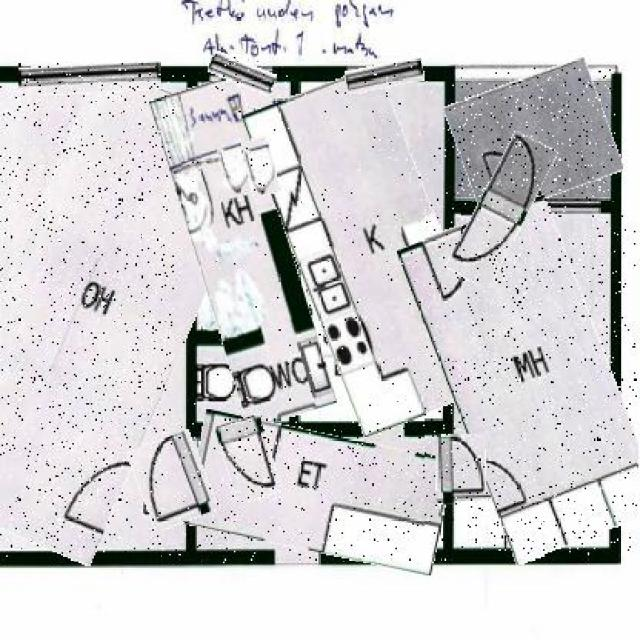door: (460, 132, 542, 288), (132, 434, 211, 528), (221, 416, 277, 502), (437, 436, 486, 504), (243, 137, 277, 197)
window: (18, 63, 160, 94), (346, 60, 423, 91), (209, 57, 277, 91)
zone: (0, 72, 228, 557), (425, 203, 637, 557), (271, 72, 471, 430), (174, 77, 314, 426), (186, 422, 449, 563), (451, 68, 615, 209)
